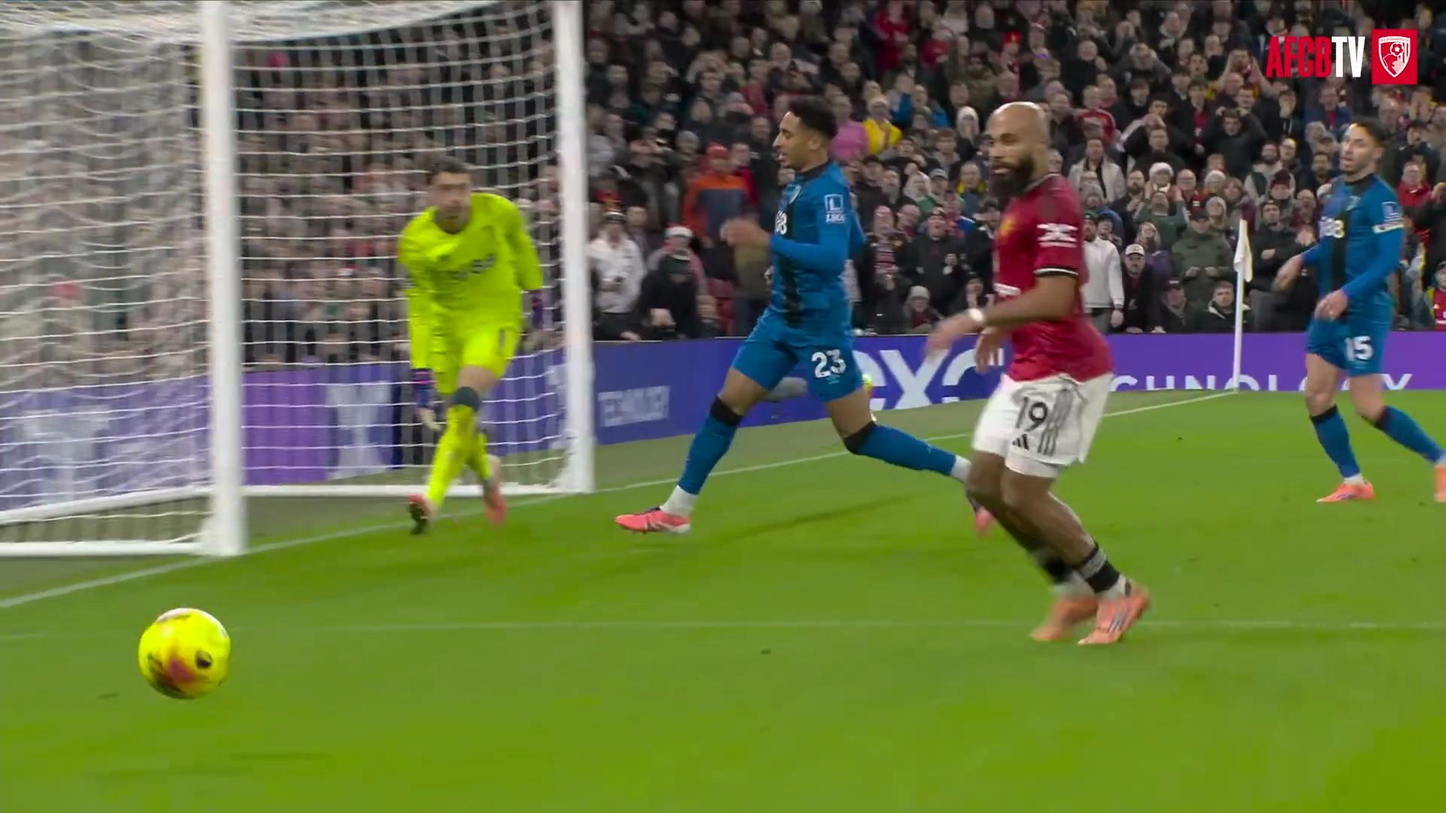football: (138, 608, 230, 699)
player: (615, 97, 967, 532), (929, 102, 1149, 644), (1276, 119, 1445, 501), (398, 160, 542, 533)
